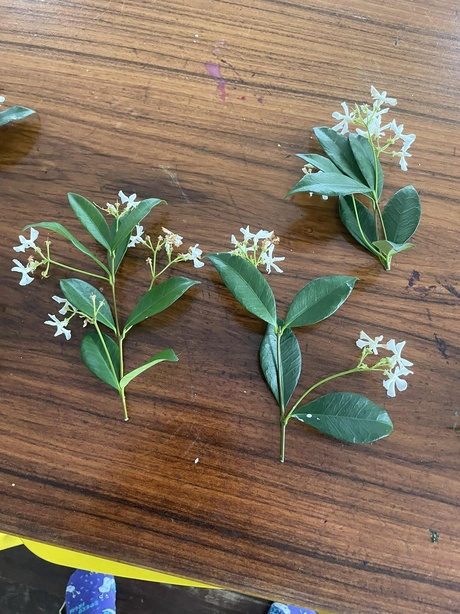leaf: (295, 388, 400, 450), (200, 249, 282, 324), (276, 266, 356, 330), (253, 314, 305, 412), (128, 271, 202, 337), (49, 268, 124, 333), (61, 188, 119, 252), (79, 326, 126, 393), (379, 183, 423, 252)
